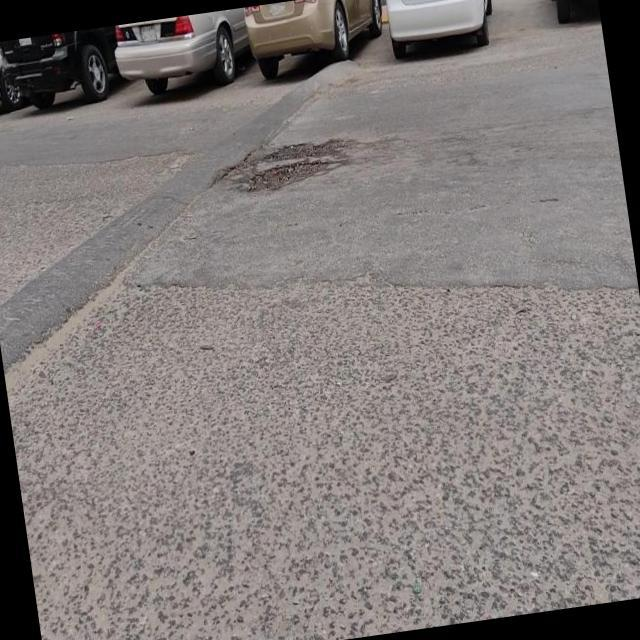Pothole: (246, 140, 349, 194)
